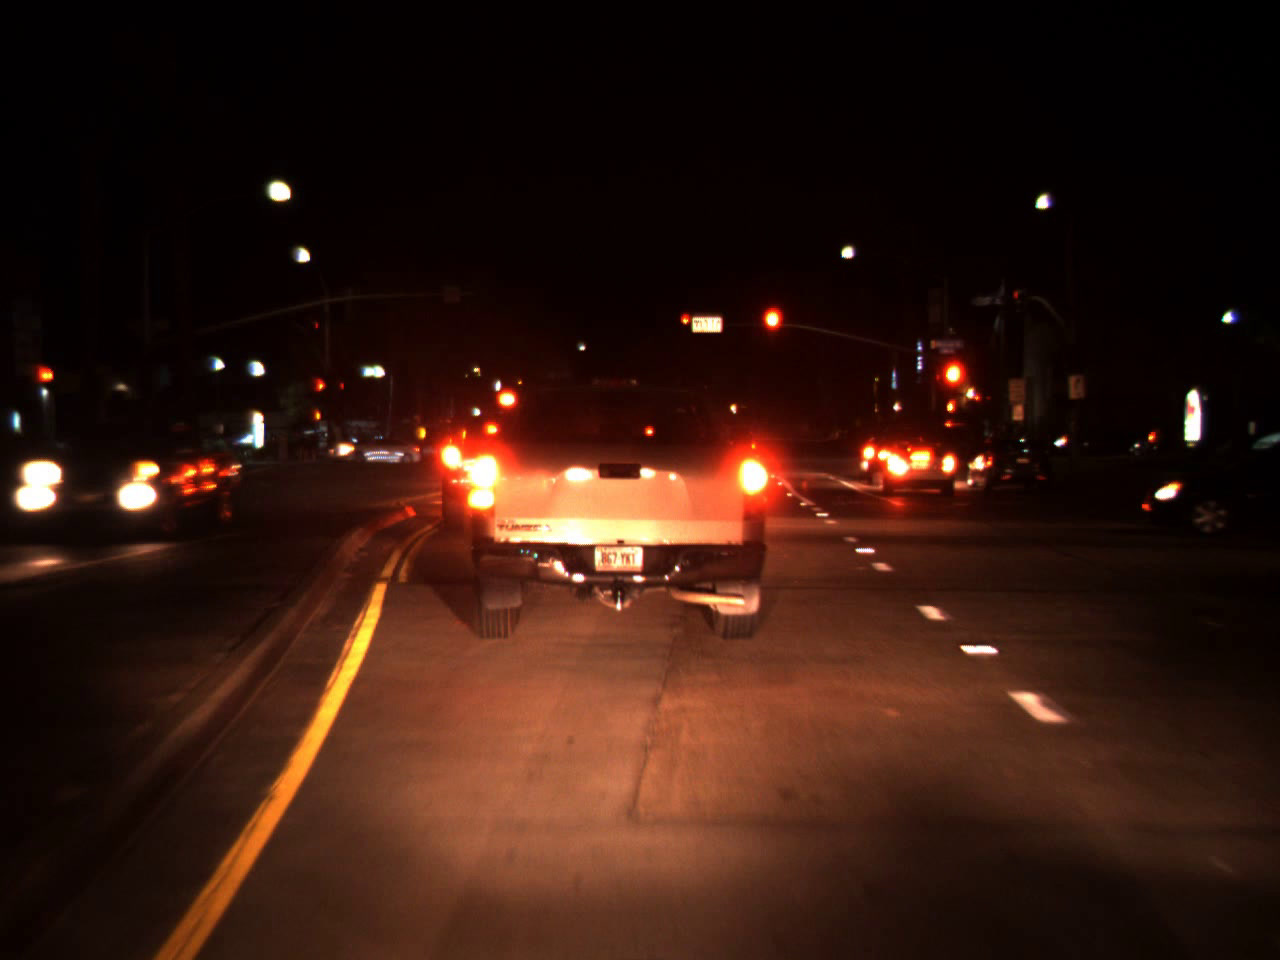stop: (937, 354, 971, 424), (759, 304, 784, 355), (315, 377, 325, 404), (680, 313, 692, 331)
